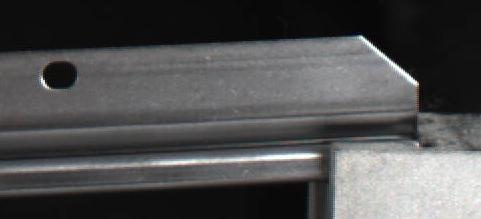cut: (271, 34, 420, 181)
holes: (38, 59, 80, 90)
